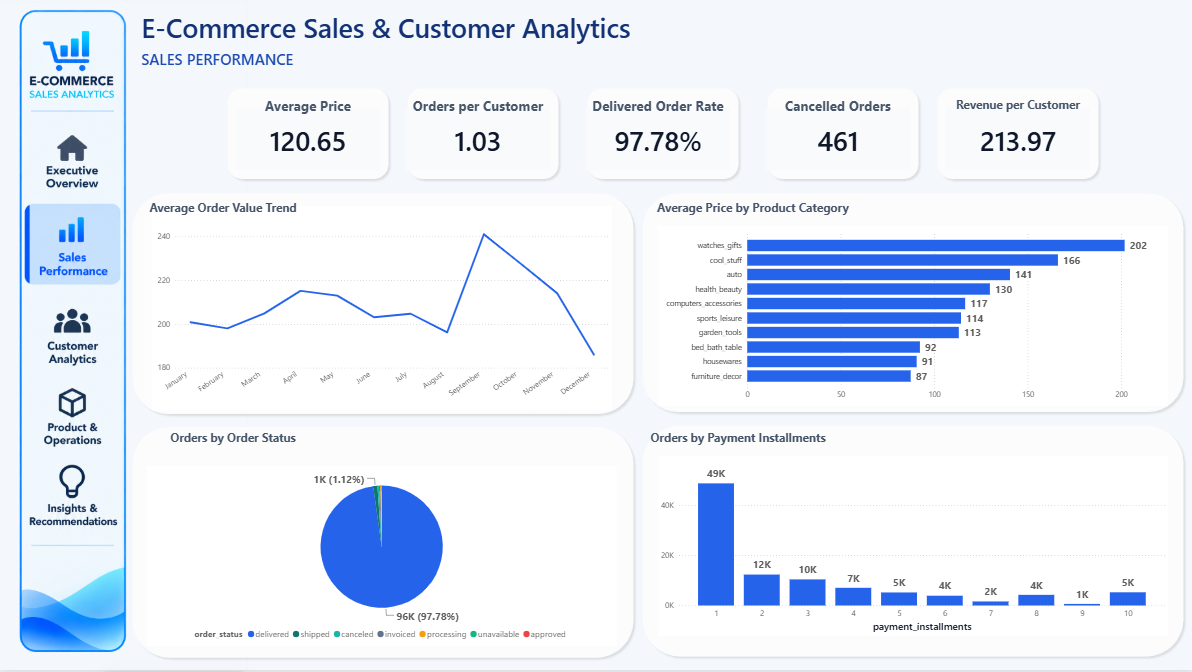

The dashboard page shown, as its layout file describes it:
{"tool":"powerbi","page":{"name":"Sales Performance","canvas":[1920,1080],"ordinal":1},"visuals":[{"type":"shape","box":[0,-8,208,1088],"z":1000},{"type":"image","box":[0,8,400,1072],"z":1500},{"type":"shape","box":[1496,139.2,272,160],"z":4000},{"type":"shape","box":[360,139.2,272,160],"z":5000},{"type":"shape","box":[648,139.2,256,160],"z":6000},{"type":"shape","box":[1224,139.2,256,160],"z":7000},{"type":"shape","box":[936,139.2,256,160],"z":8000},{"type":"cardVisual","fields":{"Data":["Table.Orders per Customer"]},"box":[648,171.2,240,112],"z":9000},{"type":"cardVisual","fields":{"Data":["Sales Analytics.Average Price"]},"box":[376,171.2,240,112],"z":10000},{"type":"cardVisual","fields":{"Data":["Table.Canceled Orders"]},"box":[1224,171.2,240,112],"z":11000},{"type":"cardVisual","fields":{"Data":["Table.Delivered Order Rate"]},"box":[936,171.2,240,112],"z":12000},{"type":"cardVisual","fields":{"Data":["Table.Revenue per Customer"]},"box":[1512,171.2,240,112],"z":13000},{"type":"textbox","box":[360,155.2,272,48],"z":15000},{"type":"textbox","box":[920,155.2,272,48],"z":16000},{"type":"textbox","box":[632,155.2,272,48],"z":17000},{"type":"textbox","box":[1208,155.2,272,48],"z":18000},{"type":"textbox","box":[1496,155.2,272,48],"z":19000},{"type":"shape","box":[208,307,816,368],"z":20000},{"type":"lineChart","fields":{"Y":["Sales Analytics.Average Order Value"],"Category":["Sales Analytics.purchase_date.Variation.Date Hierarchy.Month"]},"box":[245,336,736,327],"z":21000},{"type":"shape","box":[207,682,816,384],"z":22000},{"type":"shape","box":[1024,307,880,365],"z":23000},{"type":"shape","box":[1024,679,880,384],"z":24000},{"type":"textbox","box":[224,320,272,48],"z":25000},{"type":"textbox","box":[1024,320,368,48],"z":26000},{"type":"textbox","box":[240,688,272,48],"z":27000},{"type":"textbox","box":[1008,688,352,48],"z":28000},{"type":"clusteredBarChart","fields":{"Category":["Sales Analytics.product_category"],"Y":["Sales Analytics.Average Price"]},"box":[1056,368,816,288],"z":29000},{"type":"pieChart","fields":{"Category":["Sales Analytics.order_status"],"Y":["Sales Analytics.Total Orders"]},"box":[238,752,752,288],"z":30000},{"type":"clusteredColumnChart","fields":{"Category":["Sales Analytics.payment_installments"],"Y":["Sales Analytics.Total Orders"]},"box":[1056,736,816,288],"z":32000},{"type":"textbox","box":[224,16,848,80],"z":33000},{"type":"textbox","box":[224,80,704,64],"z":34000}]}

Visuals, with their boxes in screenshot pixels (x1, y1, x2, y2), scaled from the page's 1920x1080 canvas onto the 1192x672 screenshot:
shape: <bbox>0, 0, 129, 671</bbox>
image: <bbox>0, 5, 248, 671</bbox>
shape: <bbox>929, 87, 1098, 186</bbox>
shape: <bbox>224, 87, 392, 186</bbox>
shape: <bbox>402, 87, 561, 186</bbox>
shape: <bbox>760, 87, 919, 186</bbox>
shape: <bbox>581, 87, 740, 186</bbox>
cardVisual - Table.Orders per Customer: <bbox>402, 107, 551, 176</bbox>
cardVisual - Sales Analytics.Average Price: <bbox>233, 107, 382, 176</bbox>
cardVisual - Table.Canceled Orders: <bbox>760, 107, 909, 176</bbox>
cardVisual - Table.Delivered Order Rate: <bbox>581, 107, 730, 176</bbox>
cardVisual - Table.Revenue per Customer: <bbox>939, 107, 1088, 176</bbox>
textbox: <bbox>224, 97, 392, 126</bbox>
textbox: <bbox>571, 97, 740, 126</bbox>
textbox: <bbox>392, 97, 561, 126</bbox>
textbox: <bbox>750, 97, 919, 126</bbox>
textbox: <bbox>929, 97, 1098, 126</bbox>
shape: <bbox>129, 191, 636, 420</bbox>
lineChart - Sales Analytics.Average Order Value x Sales Analytics.purchase_date.Variation.Date Hierarchy.Month: <bbox>152, 209, 609, 413</bbox>
shape: <bbox>129, 424, 635, 663</bbox>
shape: <bbox>636, 191, 1182, 418</bbox>
shape: <bbox>636, 422, 1182, 661</bbox>
textbox: <bbox>139, 199, 308, 229</bbox>
textbox: <bbox>636, 199, 864, 229</bbox>
textbox: <bbox>149, 428, 318, 458</bbox>
textbox: <bbox>626, 428, 844, 458</bbox>
clusteredBarChart - Sales Analytics.product_category x Sales Analytics.Average Price: <bbox>656, 229, 1162, 408</bbox>
pieChart - Sales Analytics.order_status x Sales Analytics.Total Orders: <bbox>148, 468, 615, 647</bbox>
clusteredColumnChart - Sales Analytics.payment_installments x Sales Analytics.Total Orders: <bbox>656, 458, 1162, 637</bbox>
textbox: <bbox>139, 10, 666, 60</bbox>
textbox: <bbox>139, 50, 576, 90</bbox>
